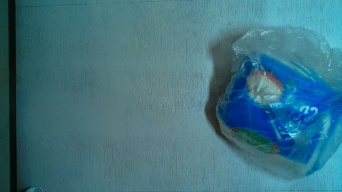m: (210, 39, 342, 178)
